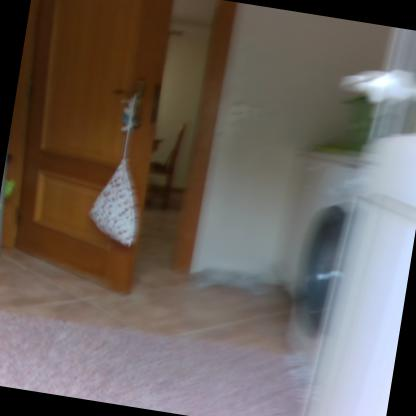semi: (0, 0, 267, 300)
